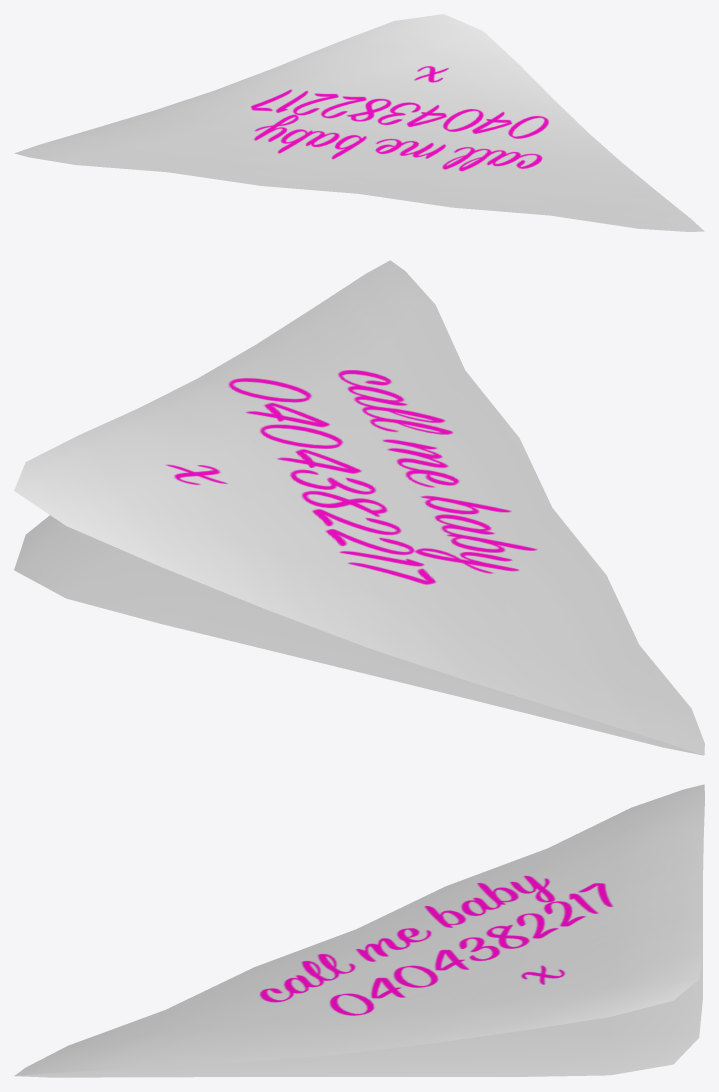
The model's file is napkinA.glb.
The picture shows the model from 3 angles, top to bottom: view 1: azimuth 30°, elevation 25°; view 2: azimuth 150°, elevation 25°; view 3: azimuth 270°, elevation 25°; orthographic projection. The views are drawn at different scales.
Parts seen in each view (by area): view 1: Plane.018, Plane.019; view 2: Plane.018, Plane.019; view 3: Plane.018, Plane.019.
Part boxes in pixels (bbox=[...]): Plane.018: bbox=[14, 14, 704, 231]; Plane.019: bbox=[251, 66, 548, 171]; Plane.018: bbox=[14, 260, 704, 755]; Plane.019: bbox=[166, 370, 536, 584]; Plane.018: bbox=[14, 784, 704, 1077]; Plane.019: bbox=[260, 875, 612, 1015].
Bounding box in the file's own units: 0.6192 × 0.0681 × 0.6192.
2 materials, 2 textured.
